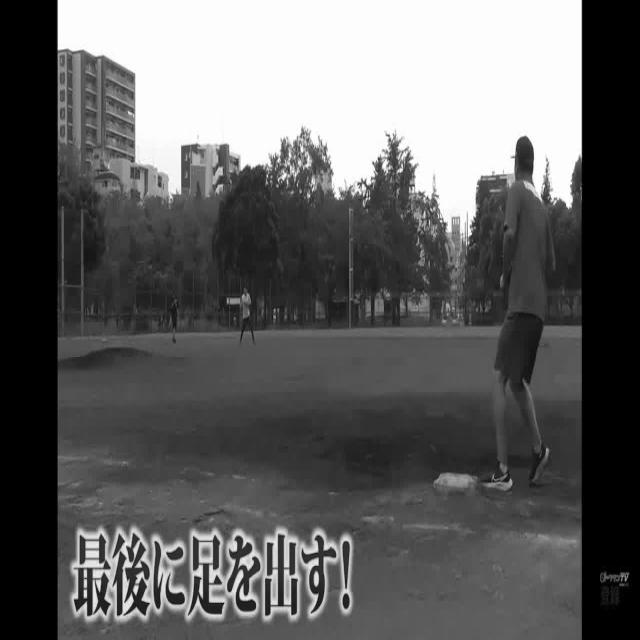base: (431, 473, 478, 498)
shoe: (483, 459, 512, 497), (530, 443, 550, 489)
